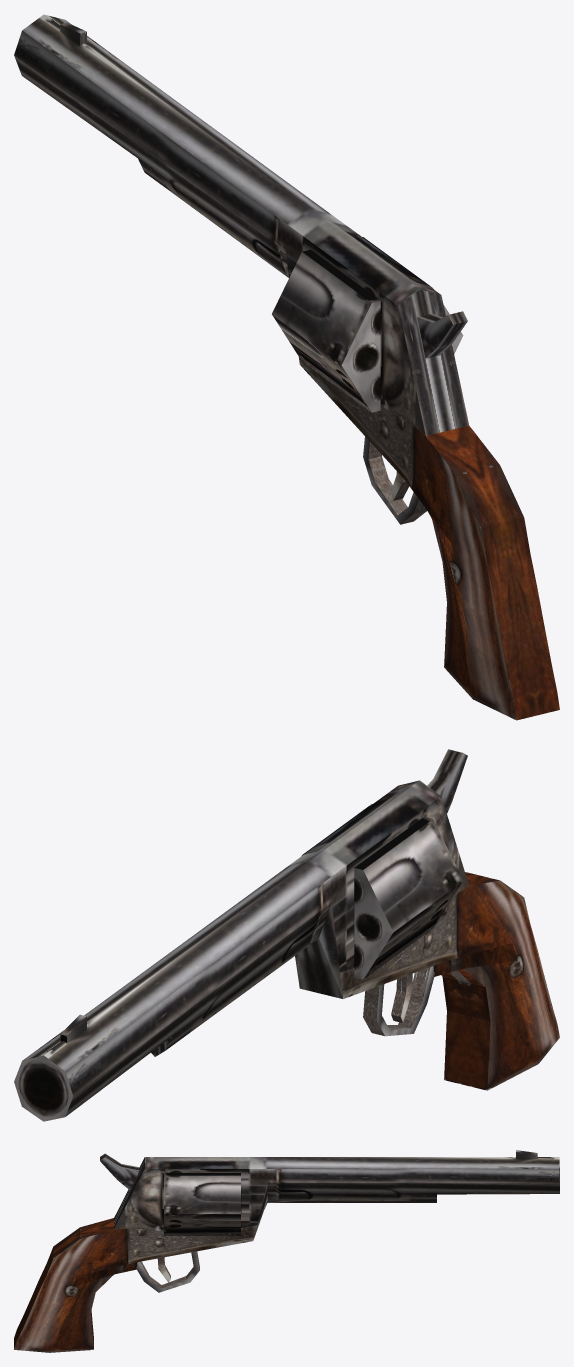
File: revolver.glb
The picture shows the model from 3 angles, top to bottom: view 1: azimuth 30°, elevation 25°; view 2: azimuth 150°, elevation 25°; view 3: azimuth 270°, elevation 25°; orthographic projection. The views are drawn at different scales.
Visible parts, largest first — view 1: revolver; view 2: revolver; view 3: revolver.
Boxes of the visible parts, x1,y1,x2,y2 form: revolver: [14, 14, 559, 720]; revolver: [14, 749, 559, 1121]; revolver: [14, 1150, 559, 1352].
Bounding box in the file's own units: 0.0426 × 0.117 × 0.3.
Materials: 1 (1 with a texture image).
